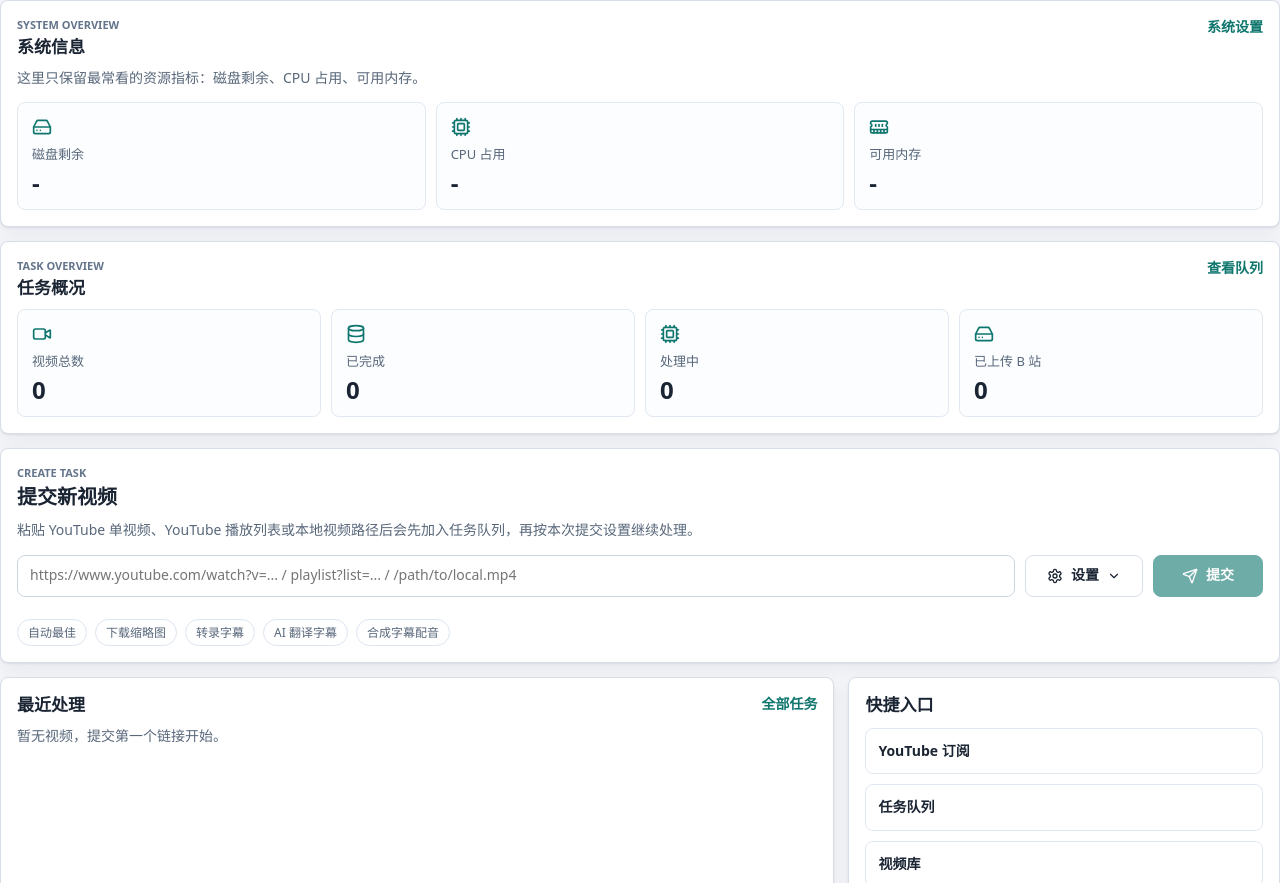
Scenario: DashboardPage › shows a submission error without refreshing tasks
Replace the text in the field named "YouTube 链接或本地视频路径" with "/tmp/source.mp4". click: (516, 576)
box: [17, 555, 1015, 597]
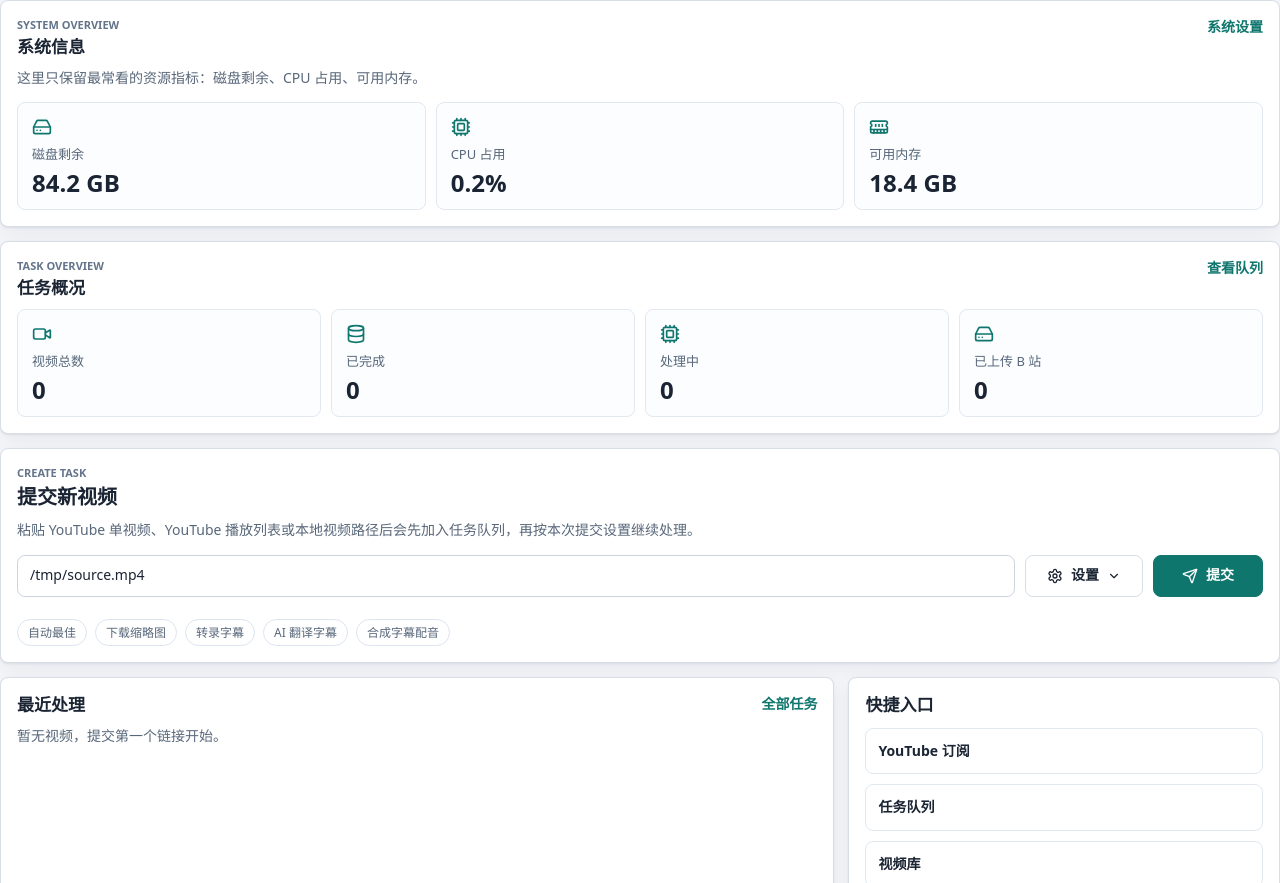
Submit the form named "YouTube 链接或本地视频路径", box [17, 555, 1263, 646]
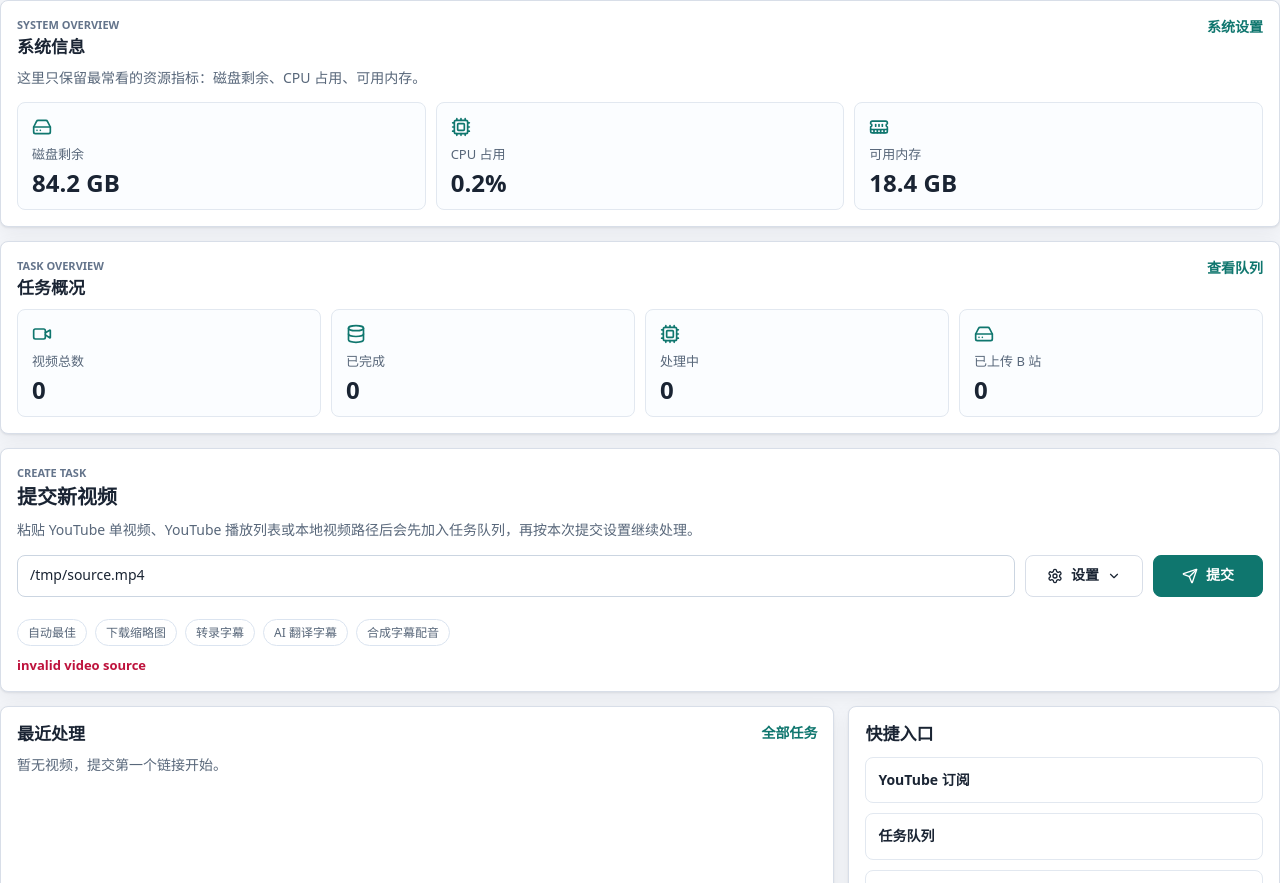
Expected: the message reads "invalid video source", [17, 656, 146, 674]
